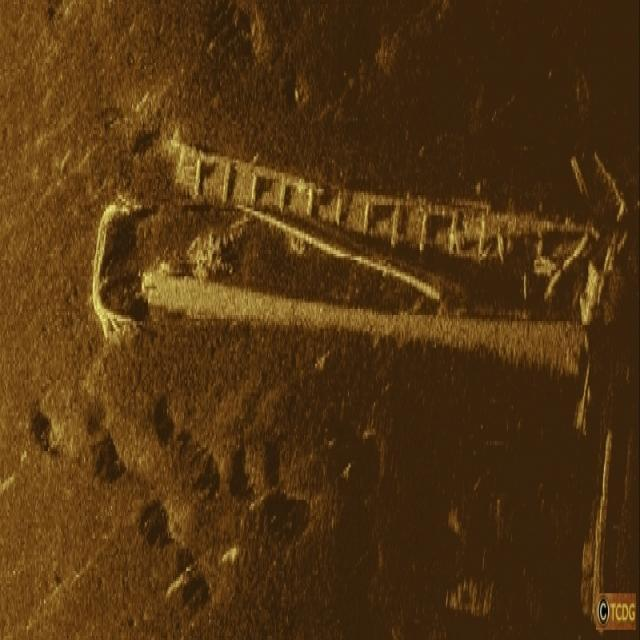shipwreck: (90, 134, 624, 431)
